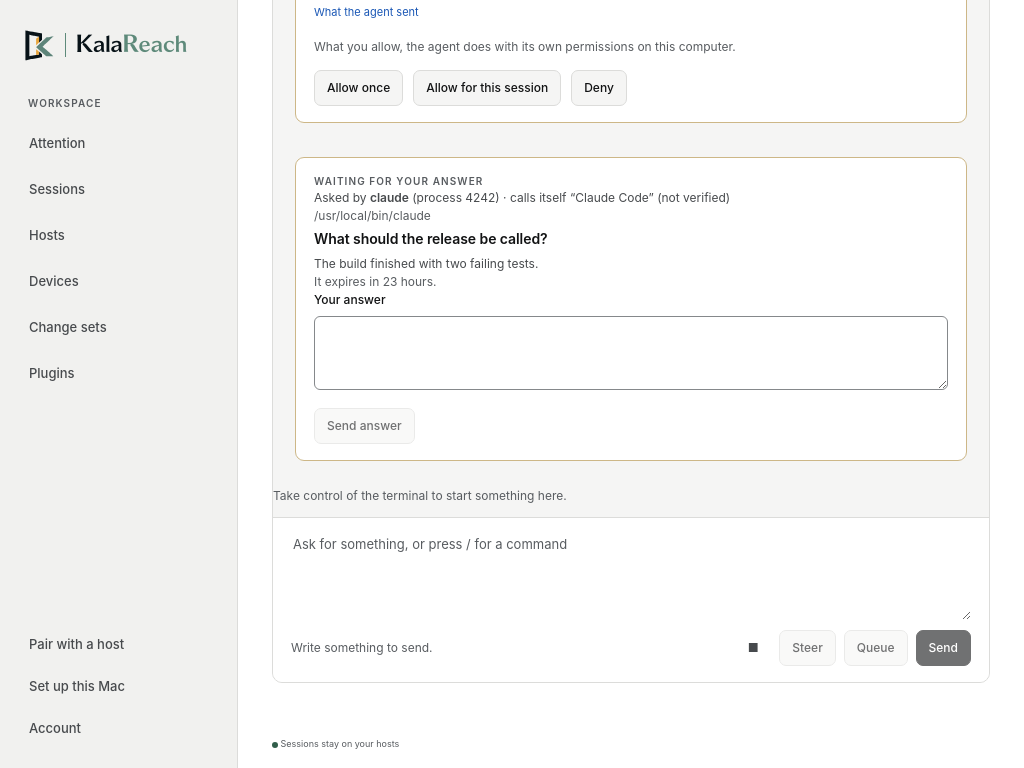
Test: on the desktop › keeps holding an action the host itself still records as unknown
(page scrolled)
In the text box with test id "composer-input": (631, 577) [291,534,971,620], type "run the migration"
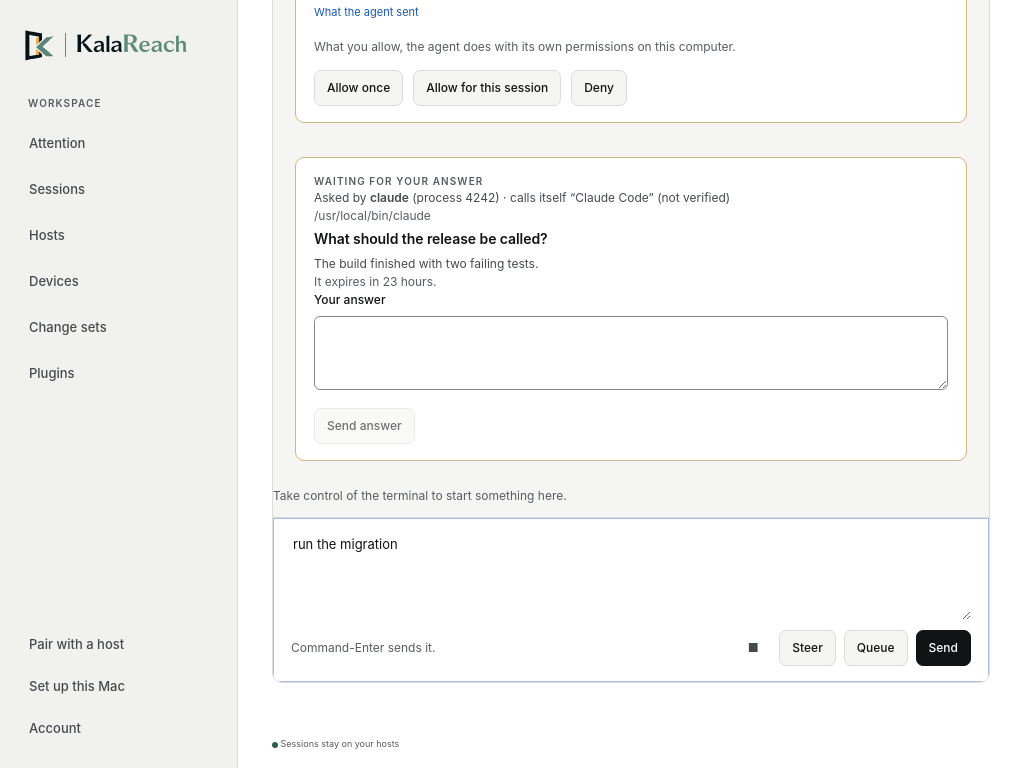
Result: the button with test id "composer-send" is enabled
Click the button with test id "composer-send": click(943, 648) [916,630,971,666]
(page scrolled)
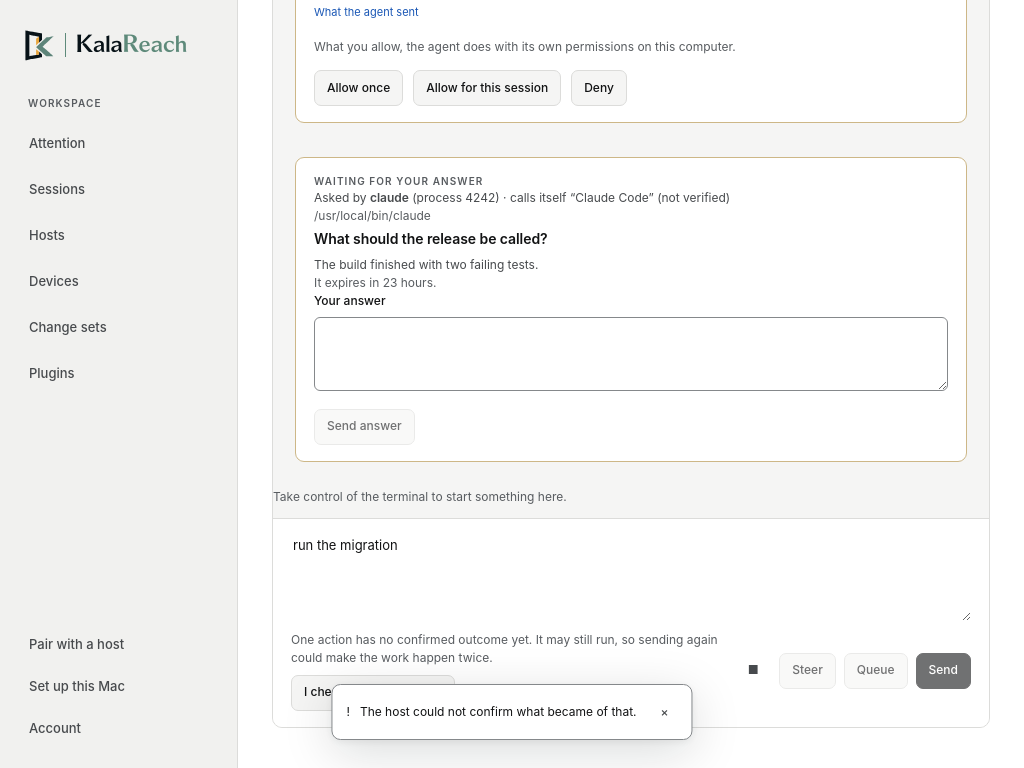
Result: the button with test id "composer-send" is disabled at [916,653,971,689]
Result: the text with test id "composer-reason" shows "no confirmed outcome yet" at [291,632,718,665]
